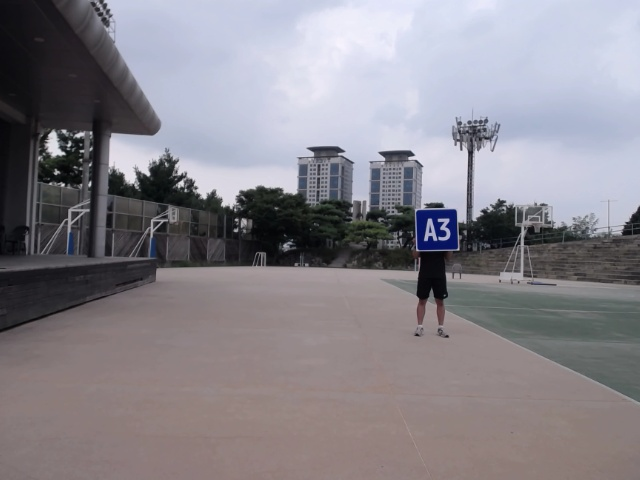delivery_a3: (415, 209, 459, 251)
